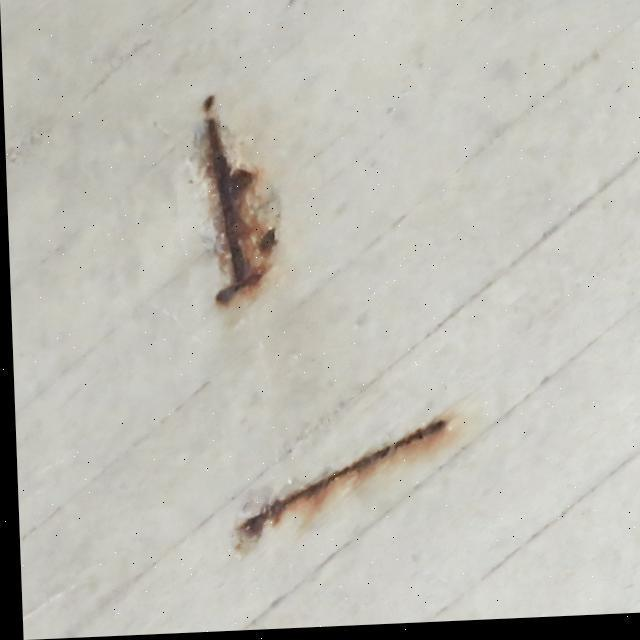D10: (234, 419, 446, 552), (190, 98, 280, 308)
